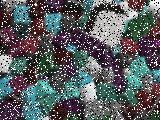Right: (82, 0, 131, 48)
